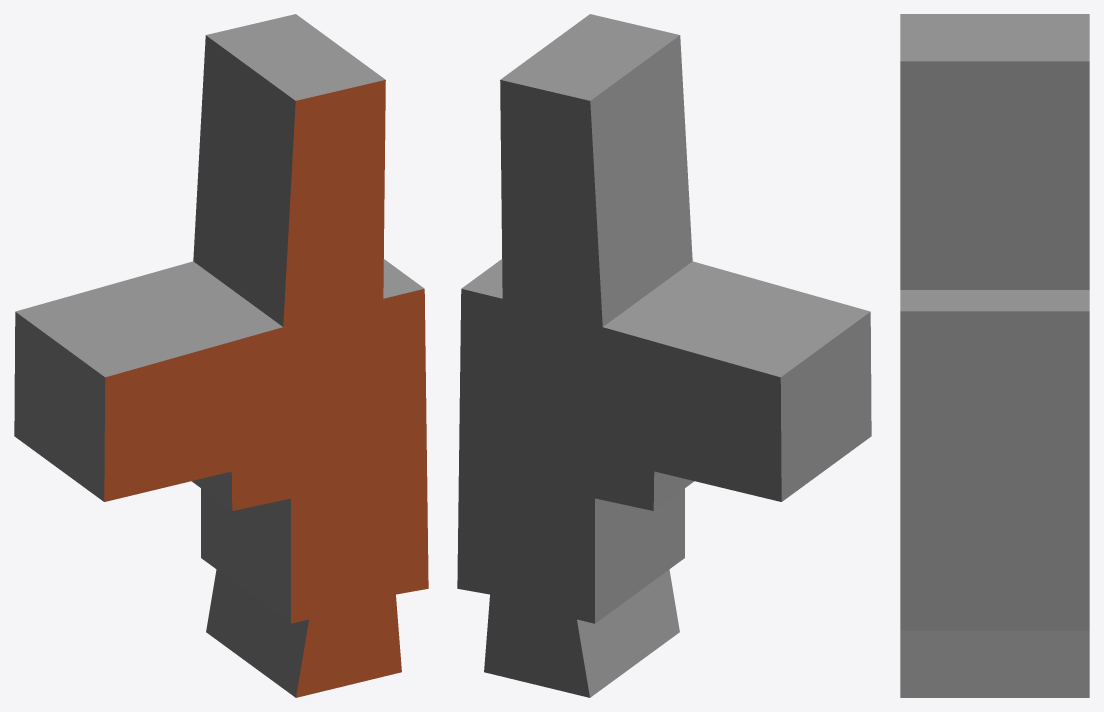
Rendered from construction_4807_assumed_A_Casa_h6m.obj.
3 renders of one model, left to right at view 1: azimuth 30°, elevation 25°; view 2: azimuth 150°, elevation 25°; view 3: azimuth 270°, elevation 25°, orthographic. The views are drawn at different scales.
Visible parts, largest first — view 1: construction_4807_assumed_A_Casa; view 2: construction_4807_assumed_A_Casa; view 3: construction_4807_assumed_A_Casa.
Boxes of the visible parts, bbox=[...] form: construction_4807_assumed_A_Casa: bbox=[14, 14, 428, 697]; construction_4807_assumed_A_Casa: bbox=[457, 14, 871, 697]; construction_4807_assumed_A_Casa: bbox=[900, 14, 1089, 697].
Size of the model in its own units: 12.49 by 21.98 by 6.
